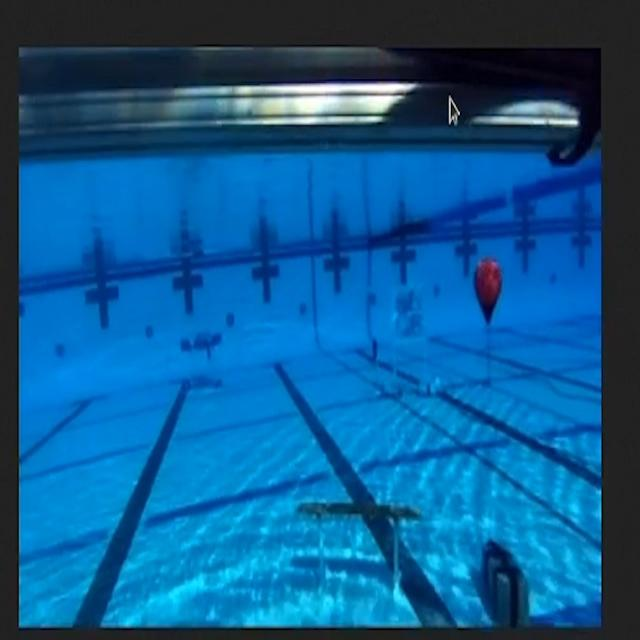Buoy: (463, 243, 520, 345)
Path: (288, 469, 423, 608)
